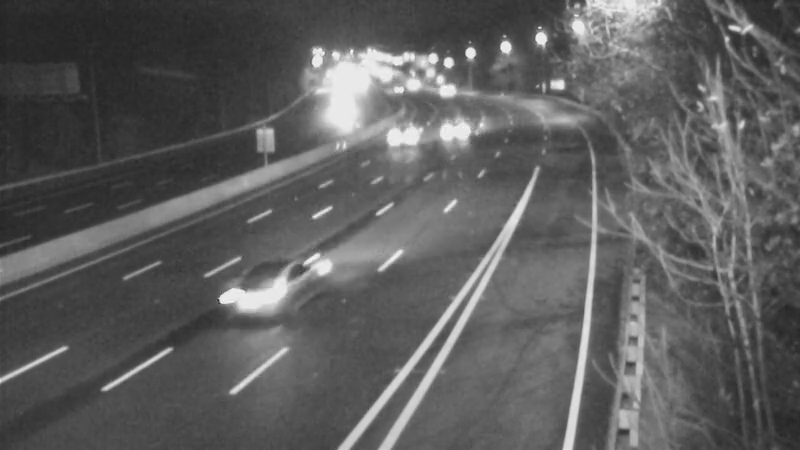vehicle: (218, 258, 298, 338), (418, 66, 468, 116), (440, 100, 490, 150), (370, 105, 420, 155), (316, 83, 366, 133)
